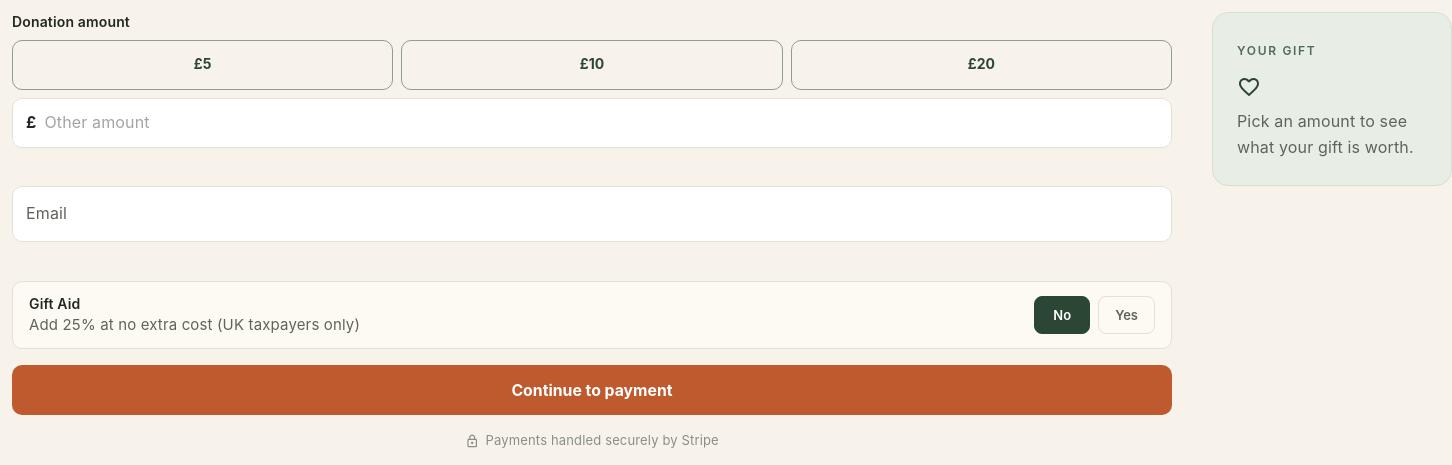
Test: DonationDetailsForm › clears the amount error once a preset is chosen
Click the button "Continue to payment" at [592, 390], box [12,365,1172,415]
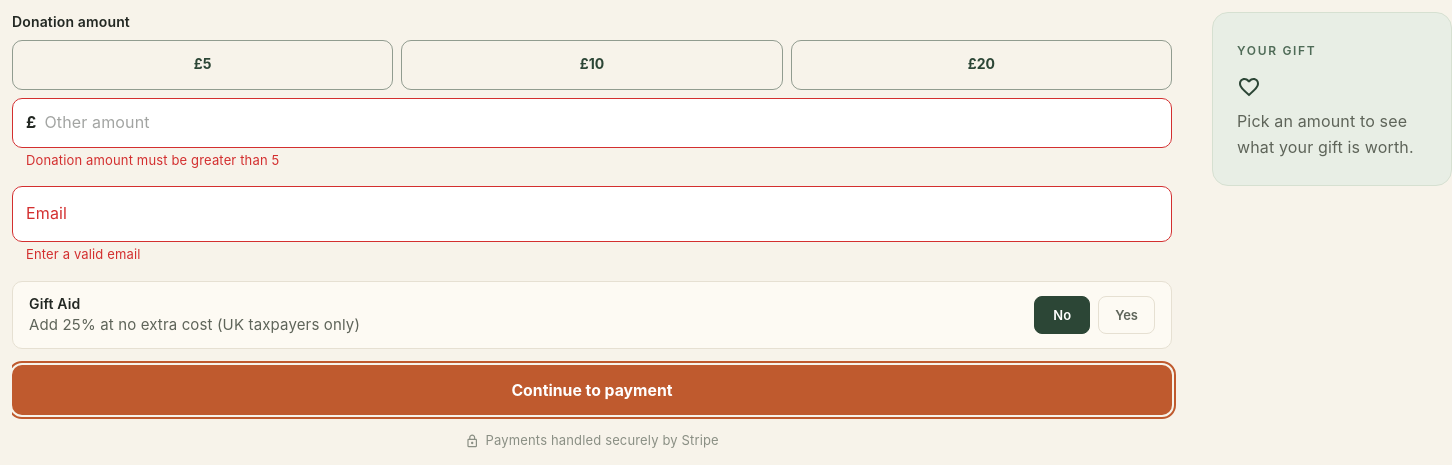
Now the text "Donation amount must be greater than 5" is shown, box [26,152,279,168]
Click the button "£20" at [981, 65], box [791,40,1172,90]
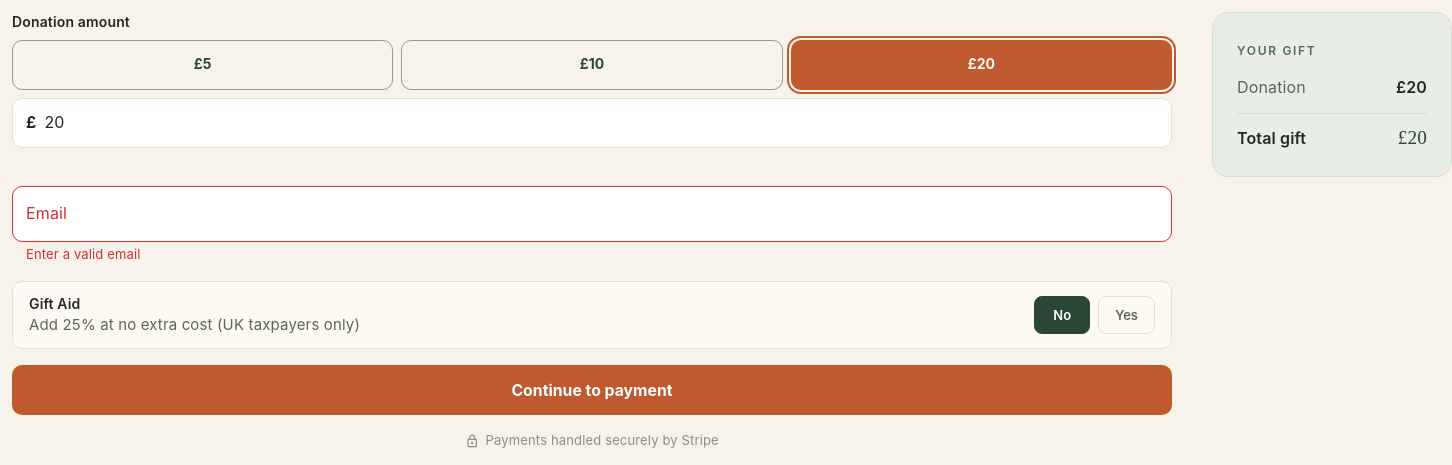
Now the text "Donation amount must be greater than 5" is gone
